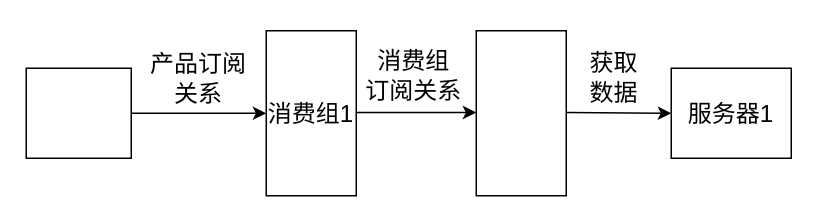
This 818x222 diagram has some shape labels left out. The shapes that lost their labels are listed below. From the top down, each one's centre as x and y in pixels, then its label:
At point 78,112: "产品1".
At point 520,112: "订阅1".
